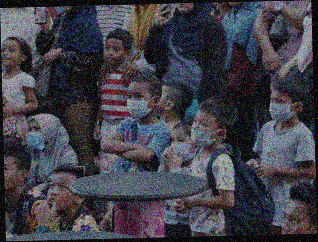mask_weared_incorrect: (189, 114, 219, 148)
with_mask: (267, 92, 296, 123), (126, 89, 153, 120), (170, 134, 196, 163), (25, 123, 47, 150)
without_mask: (44, 178, 80, 212), (280, 207, 315, 234), (104, 41, 125, 65), (2, 46, 23, 69)
